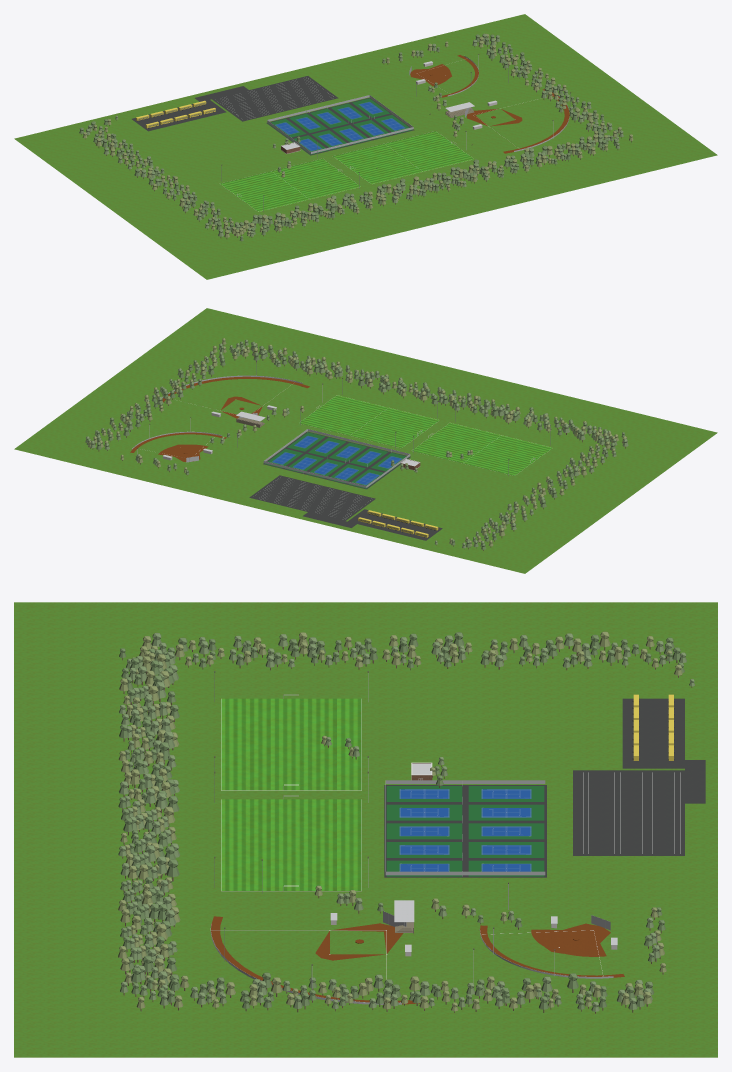
Rendered from jasper_high_school_campus.glb.
The picture shows the model from 3 angles, top to bottom: view 1: azimuth 30°, elevation 25°; view 2: azimuth 150°, elevation 25°; view 3: azimuth 270°, elevation 25°; orthographic projection. The views are drawn at different scales.
Parts seen in each view (by area): view 1: campus_ground, soccer_1, soccer_0, baseball_outfield, parking, softball_outfield, ten_pad, bus_lot; view 2: campus_ground, soccer_1, soccer_0, baseball_outfield, parking, softball_outfield, ten_pad, bus_lot; view 3: campus_ground, soccer_1, soccer_0, baseball_outfield, parking, softball_outfield, bus_lot, ten_pad, baseball_grass_in, court_0_1, court_0_2, court_1_1 (+11 smaller).
Boxes of the visible parts, x1,y1,x2,y2 form: campus_ground: [14, 14, 717, 279]; soccer_1: [333, 131, 473, 184]; soccer_0: [220, 158, 360, 211]; baseball_outfield: [479, 87, 575, 156]; parking: [212, 76, 338, 121]; softball_outfield: [425, 52, 485, 100]; ten_pad: [266, 97, 414, 155]; bus_lot: [132, 99, 226, 131]; campus_ground: [14, 308, 717, 573]; soccer_1: [299, 395, 439, 448]; soccer_0: [412, 423, 552, 475]; baseball_outfield: [150, 374, 317, 414]; parking: [249, 475, 375, 520]; softball_outfield: [123, 430, 232, 457]; ten_pad: [263, 431, 410, 489]; bus_lot: [348, 509, 442, 540]; campus_ground: [14, 602, 717, 1057]; soccer_1: [221, 799, 361, 890]; soccer_0: [221, 698, 361, 790]; baseball_outfield: [198, 912, 428, 1009]; parking: [573, 770, 684, 855]; softball_outfield: [467, 923, 632, 983]; bus_lot: [622, 698, 684, 768]; ten_pad: [384, 785, 546, 877]; baseball_grass_in: [330, 930, 386, 954]; court_0_1: [386, 804, 462, 820]; court_0_2: [386, 823, 462, 839]; court_1_1: [468, 804, 544, 820].
Size of the model in its own units: 520 by 18.35 by 340.
22 materials, 10 textured.
